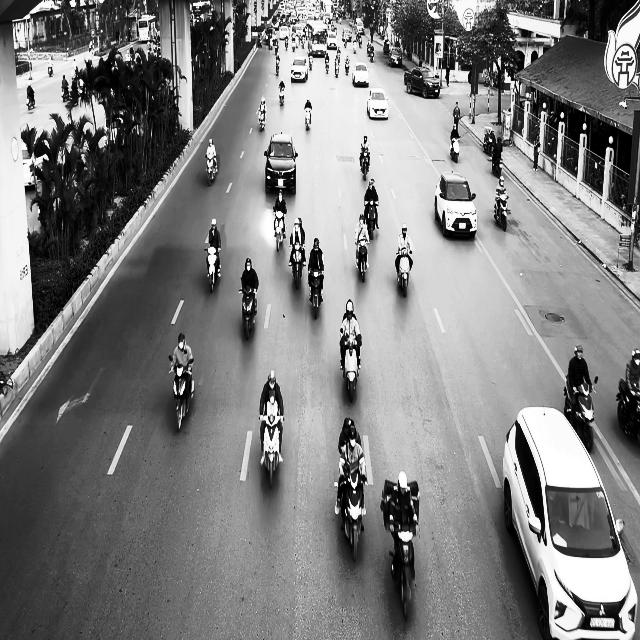bus: (137, 13, 157, 42)
car: (502, 406, 638, 640), (434, 172, 478, 239), (264, 132, 298, 194), (404, 67, 441, 98), (367, 87, 389, 119), (290, 56, 308, 82), (352, 62, 370, 86), (388, 47, 402, 67)
motorbike: (381, 478, 421, 619), (338, 465, 367, 561), (564, 374, 599, 453), (169, 355, 195, 431), (259, 413, 284, 488), (340, 331, 362, 402), (616, 378, 640, 440), (239, 286, 258, 340), (308, 268, 324, 319), (205, 245, 221, 292), (396, 250, 412, 296), (290, 241, 305, 289), (355, 238, 370, 282), (273, 207, 287, 252), (364, 200, 379, 239), (494, 193, 509, 231), (206, 154, 218, 186), (450, 136, 461, 162), (492, 151, 503, 177), (360, 152, 370, 180), (258, 107, 266, 131), (26, 92, 36, 110), (305, 107, 312, 130), (279, 86, 285, 106), (334, 60, 340, 77), (345, 59, 350, 75)
